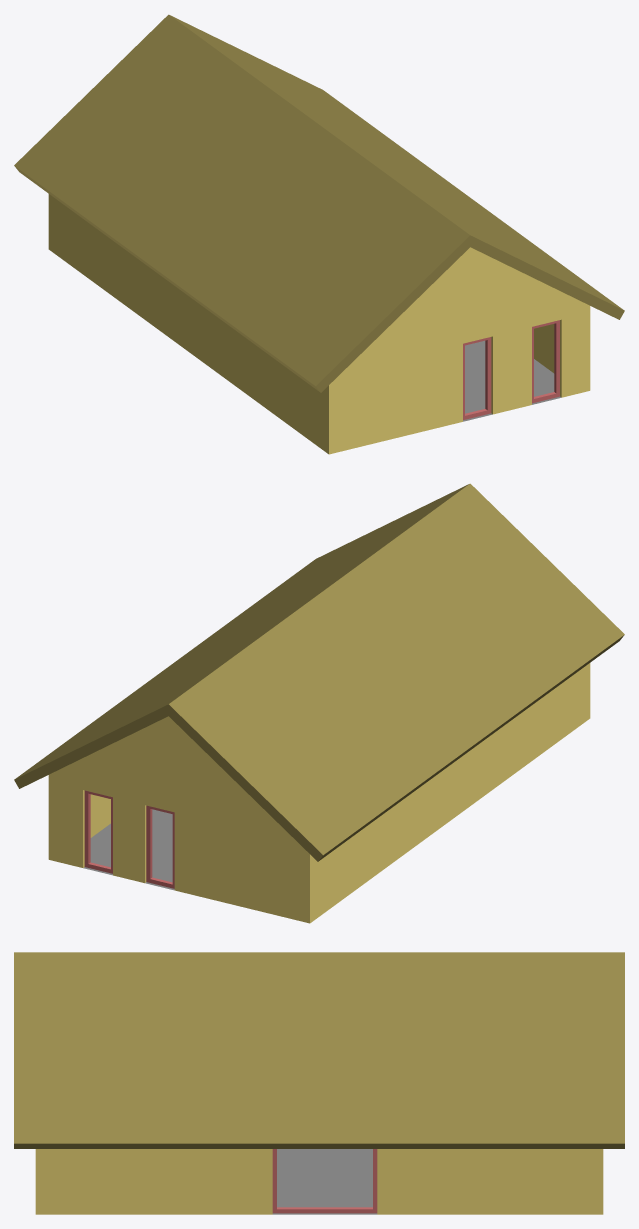
File: result.glb
3 renders of one model, top to bottom at view 1: azimuth 30°, elevation 25°; view 2: azimuth 150°, elevation 25°; view 3: azimuth 270°, elevation 25°, orthographic.
Parts seen in each view (by area): view 1: b71755e2-b3e3-483a-b7c5-d80cc111a578__undefined (×2), 31d39f51-ddd9-4f2b-b780-f10823257ed7__undefined, 2dbbe75c-8e30-49d4-b16a-ada701fb8d52__Plane_5, be03ae73-0e3f-403b-844b-74dc618324bd__Box_3, 89f72456-a156-4aac-90a4-b4c5c102ab97__Box_6; view 2: b71755e2-b3e3-483a-b7c5-d80cc111a578__undefined (×2), 31d39f51-ddd9-4f2b-b780-f10823257ed7__undefined, 2dbbe75c-8e30-49d4-b16a-ada701fb8d52__Plane_5, 7b4ca5d9-7fbd-4f62-8741-ea96e5a05c7a__Box_9, 0c530a95-e542-4b03-9d75-a7e54434a3ea__Box_12; view 3: b71755e2-b3e3-483a-b7c5-d80cc111a578__undefined, 31d39f51-ddd9-4f2b-b780-f10823257ed7__undefined, 2dbbe75c-8e30-49d4-b16a-ada701fb8d52__Plane_5, 8b8e9eb2-cb70-430f-9289-953a53d83c3c__Box.
Boxes of the visible parts, x1,y1,x2,y2 form: b71755e2-b3e3-483a-b7c5-d80cc111a578__undefined (×2): (14,14,624,392); 31d39f51-ddd9-4f2b-b780-f10823257ed7__undefined: (48,194,590,454); 2dbbe75c-8e30-49d4-b16a-ada701fb8d52__Plane_5: (463,340,561,421); be03ae73-0e3f-403b-844b-74dc618324bd__Box_3: (463,337,491,419); 89f72456-a156-4aac-90a4-b4c5c102ab97__Box_6: (532,320,559,403); b71755e2-b3e3-483a-b7c5-d80cc111a578__undefined (×2): (14,483,624,861); 31d39f51-ddd9-4f2b-b780-f10823257ed7__undefined: (48,663,590,923); 2dbbe75c-8e30-49d4-b16a-ada701fb8d52__Plane_5: (83,809,174,890); 7b4ca5d9-7fbd-4f62-8741-ea96e5a05c7a__Box_9: (146,805,174,888); 0c530a95-e542-4b03-9d75-a7e54434a3ea__Box_12: (84,790,112,873); b71755e2-b3e3-483a-b7c5-d80cc111a578__undefined: (14,952,624,1148); 31d39f51-ddd9-4f2b-b780-f10823257ed7__undefined: (35,1149,603,1214); 2dbbe75c-8e30-49d4-b16a-ada701fb8d52__Plane_5: (272,1149,377,1214); 8b8e9eb2-cb70-430f-9289-953a53d83c3c__Box: (272,1149,377,1213).
Size of the model in its own units: 829 by 500 by 1400.
